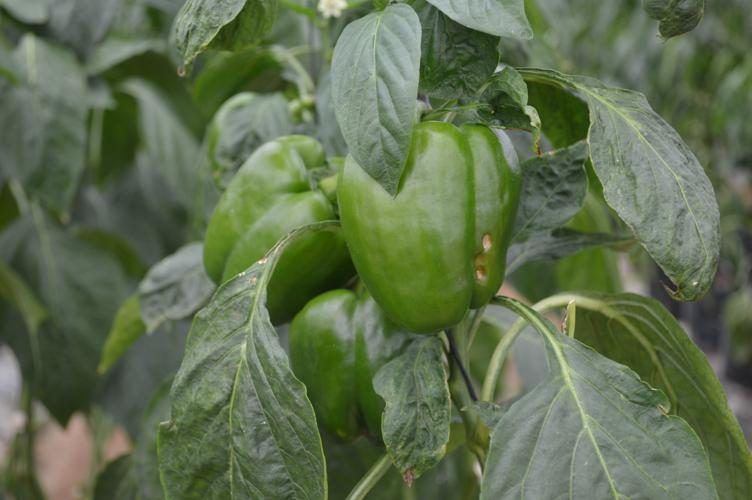BellPepper: (341, 120, 518, 330), (201, 135, 345, 319), (288, 288, 391, 439)
